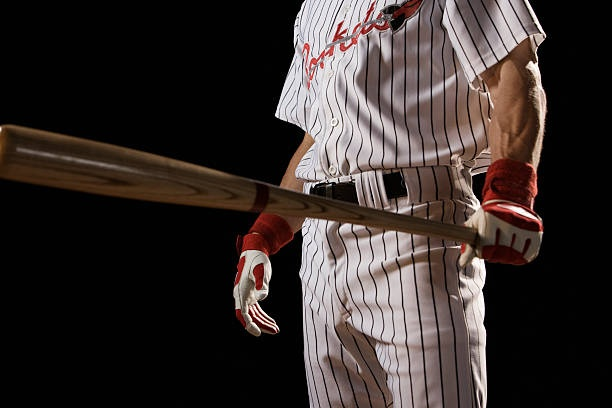bita: (1, 127, 483, 243)
